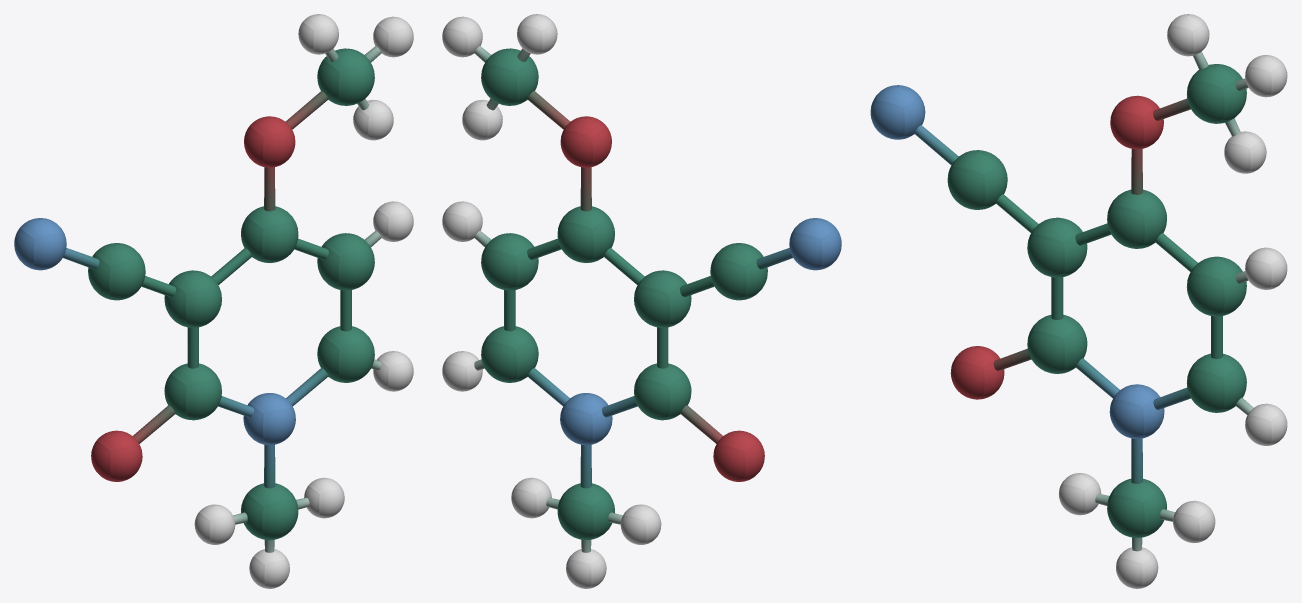
Rendered from Ricinine.fbx.
3 renders of one model, left to right at view 1: azimuth 30°, elevation 25°; view 2: azimuth 150°, elevation 25°; view 3: azimuth 330°, elevation 25°, orthographic. The views are drawn at different scales.
Parts seen in each view (by area): view 1: curMeshHyperballExportedMesh; view 2: curMeshHyperballExportedMesh; view 3: curMeshHyperballExportedMesh.
Boxes of the visible parts, x1,y1,x2,y2 form: curMeshHyperballExportedMesh: [14, 14, 413, 588]; curMeshHyperballExportedMesh: [442, 14, 841, 588]; curMeshHyperballExportedMesh: [870, 14, 1287, 588].
Size of the model in its own units: 4.46 by 6.06 by 0.5667.
